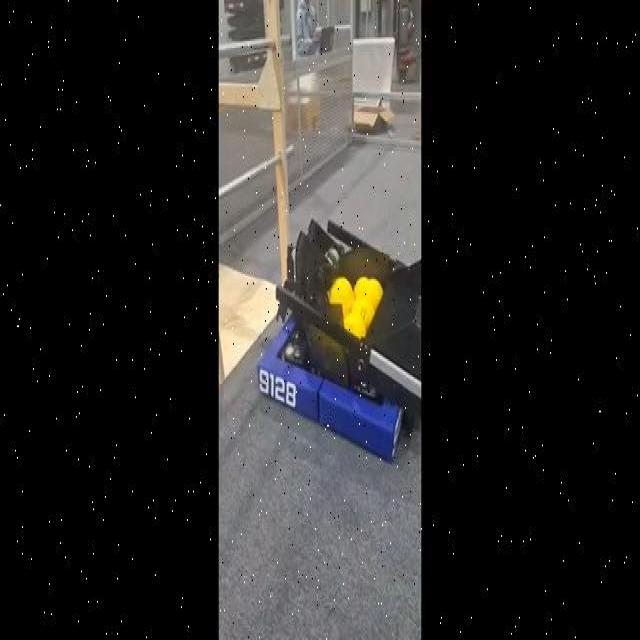Fuel: (343, 303, 368, 340), (329, 278, 353, 316), (328, 276, 354, 310), (351, 297, 374, 329), (344, 311, 365, 338), (354, 277, 368, 297)
